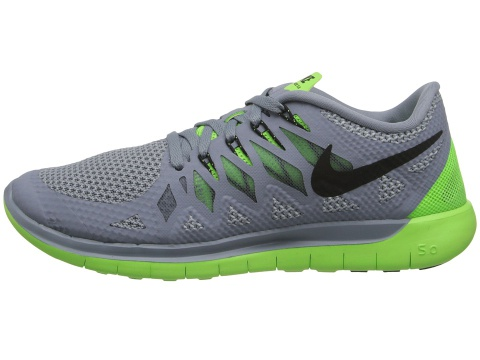nike: (309, 134, 445, 201)
